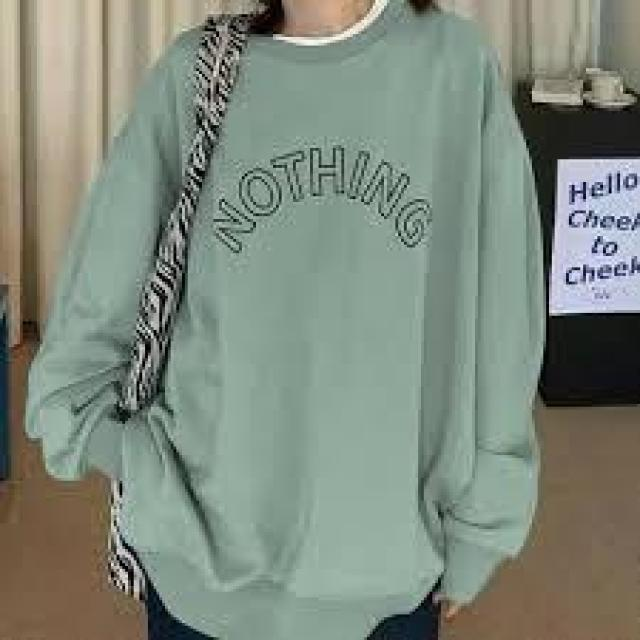sweater: (41, 27, 539, 633)
